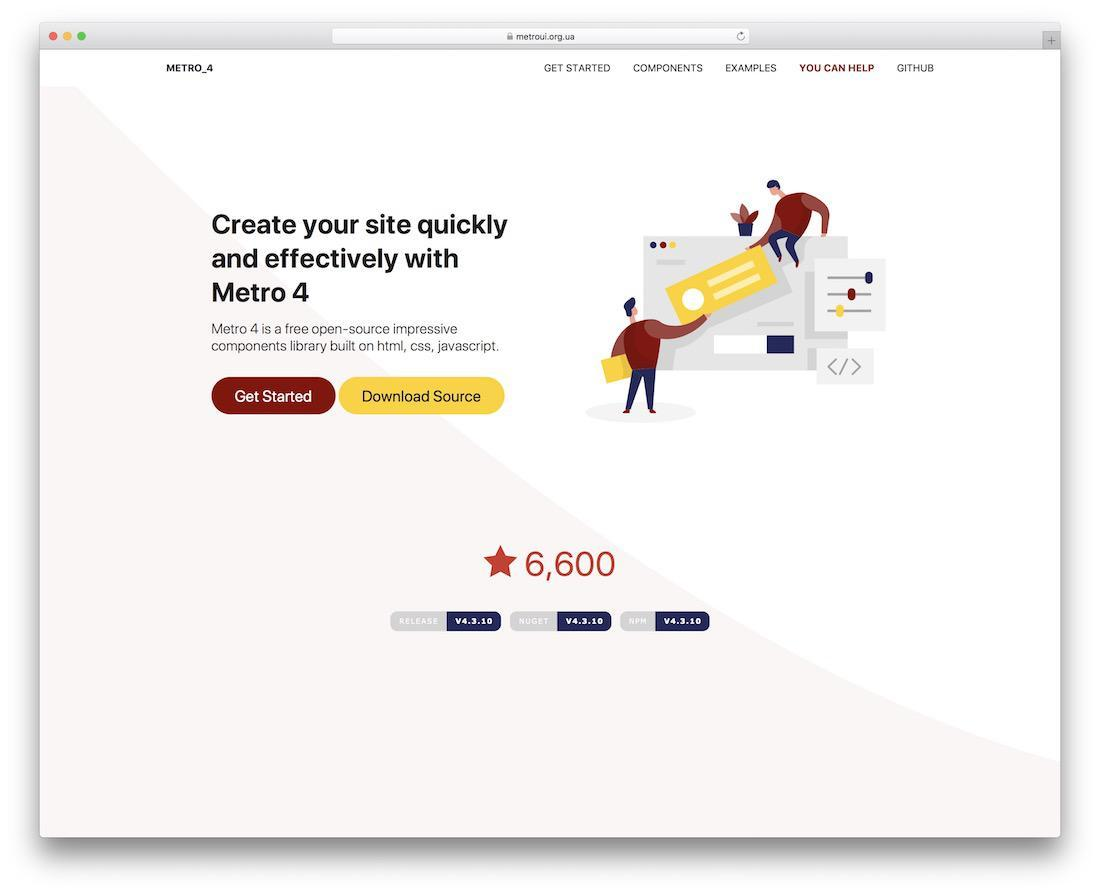button: (340, 378, 506, 417), (213, 376, 336, 416)
icon: (480, 540, 524, 581)
